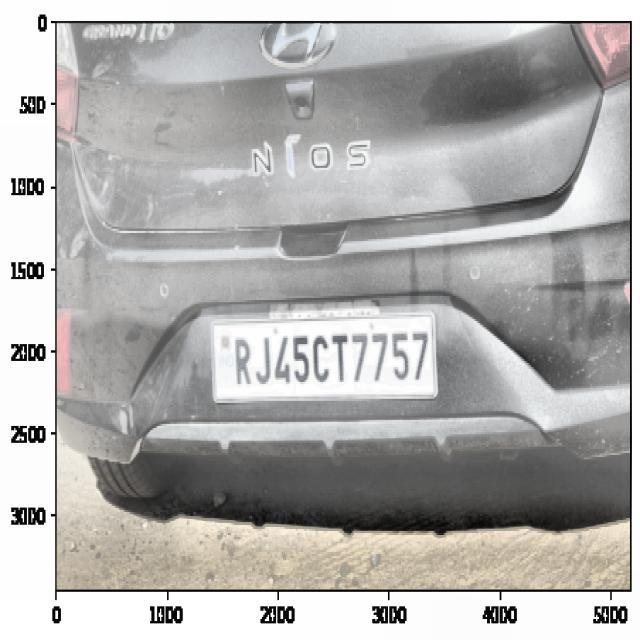license_plate: (225, 318, 434, 396)
